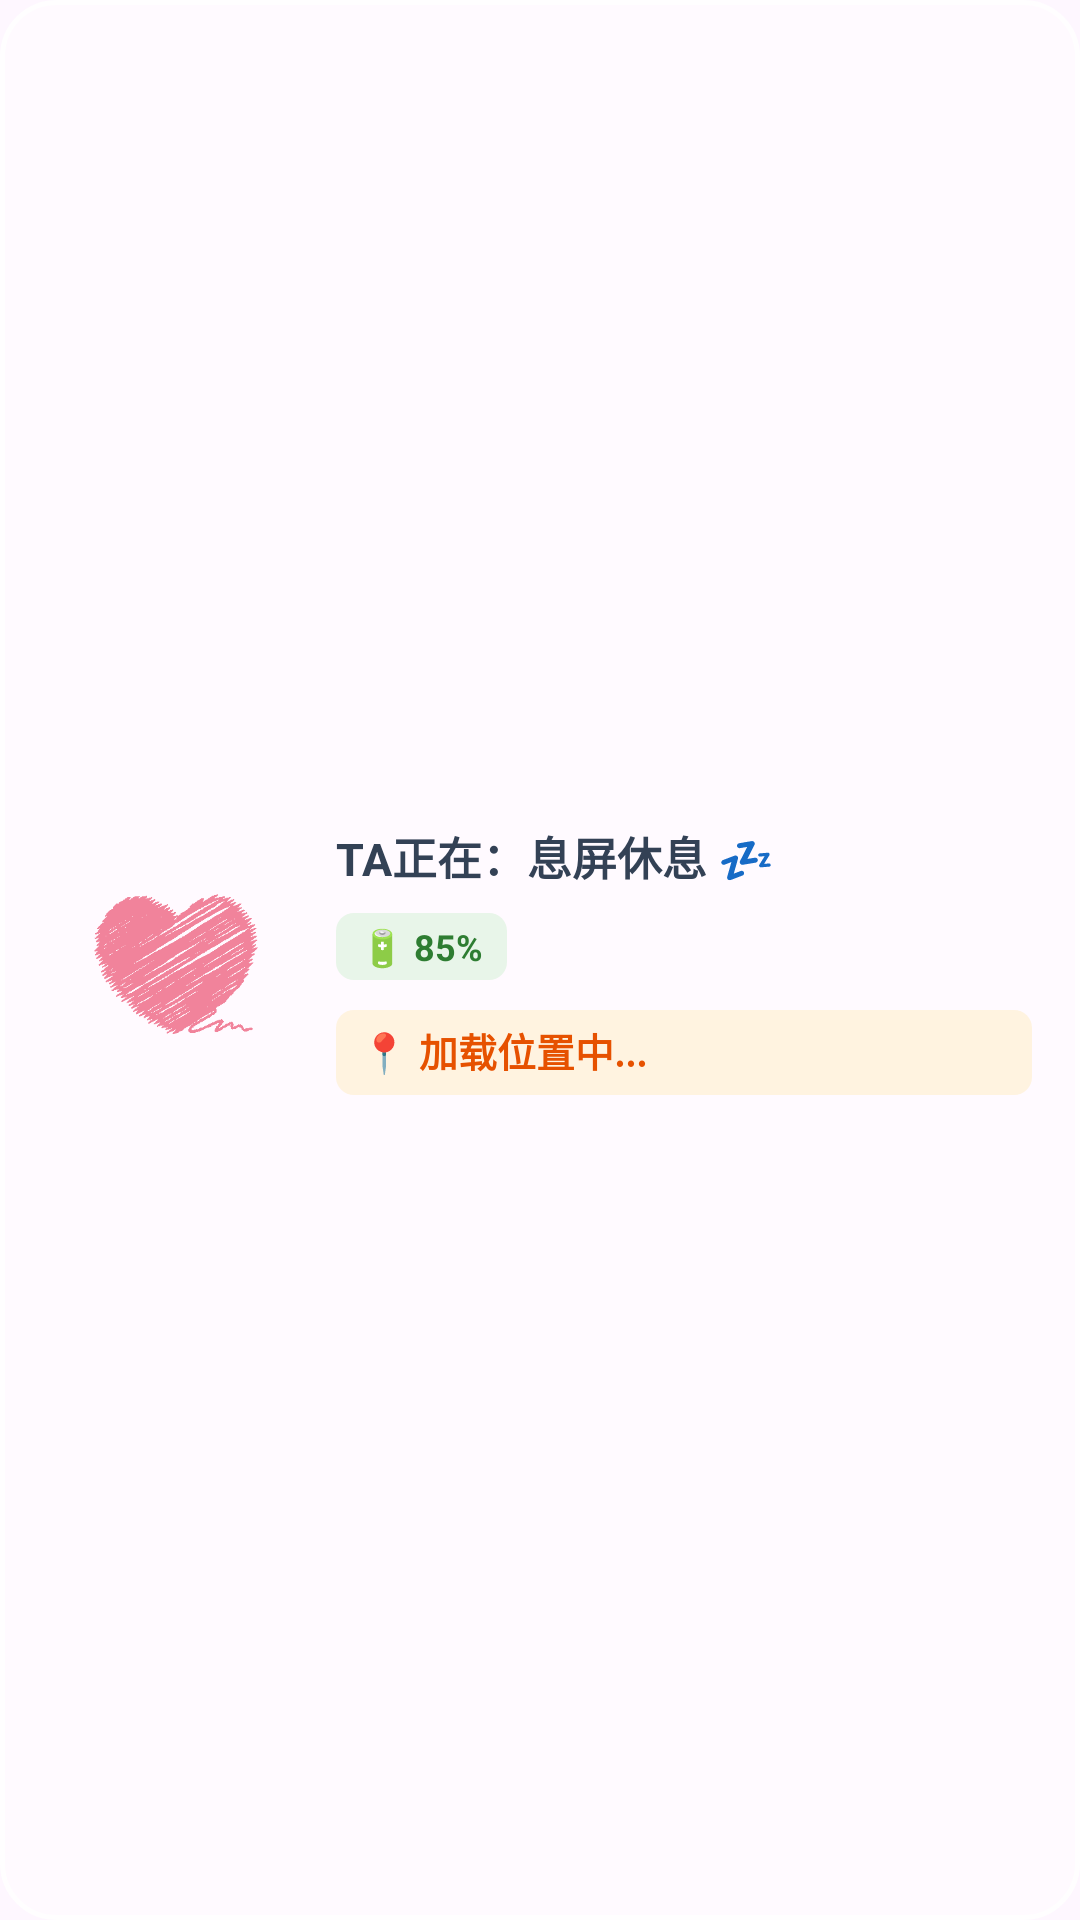

Where to tap for icons on this 1080 x 1920 app screen, as (x=x, y=y):
heart: (x=176, y=964)
